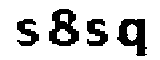8: (47, 6, 80, 50)
q: (116, 17, 148, 59)
s: (13, 17, 40, 49), (83, 18, 111, 48)
